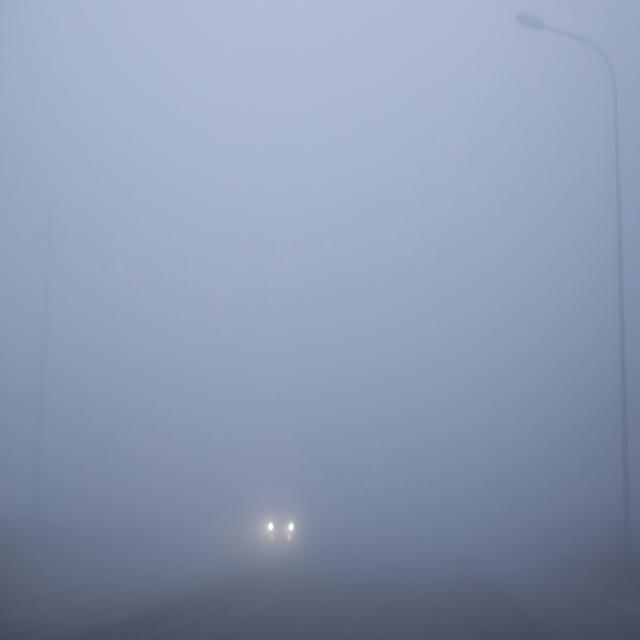car: (263, 502, 299, 547)
